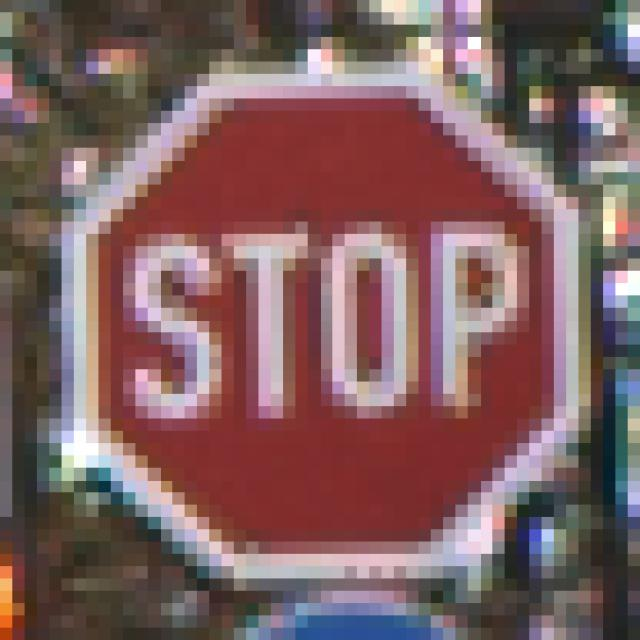STOP: (63, 63, 580, 580)
